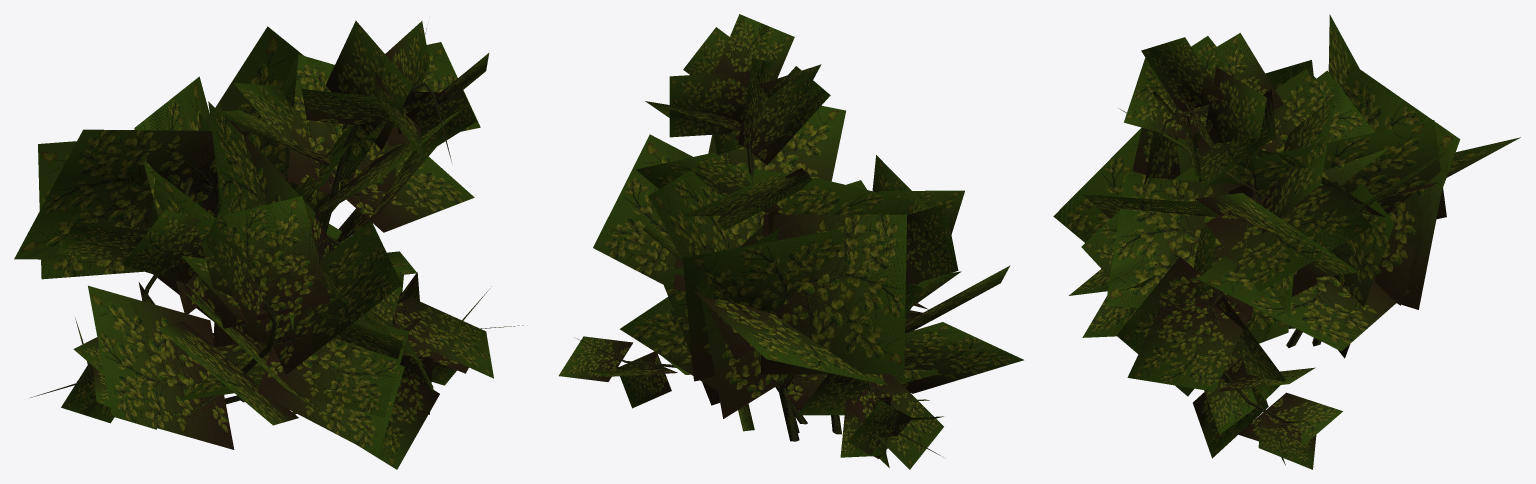
Rendered from DeadRose 3.fbx.
3 views of the same model, side by side, from view 1: azimuth 30°, elevation 25°; view 2: azimuth 150°, elevation 25°; view 3: azimuth 270°, elevation 25° (orthographic). The views are drawn at different scales.
Visible parts, largest first — view 1: DeadRose_3; view 2: DeadRose_3; view 3: DeadRose_3.
Boxes of the visible parts, x1,y1,x2,y2 form: DeadRose_3: (14, 20, 523, 469); DeadRose_3: (558, 14, 1023, 469); DeadRose_3: (1053, 14, 1520, 469).
Bounding box in the file's own units: 338 × 324 × 320.
